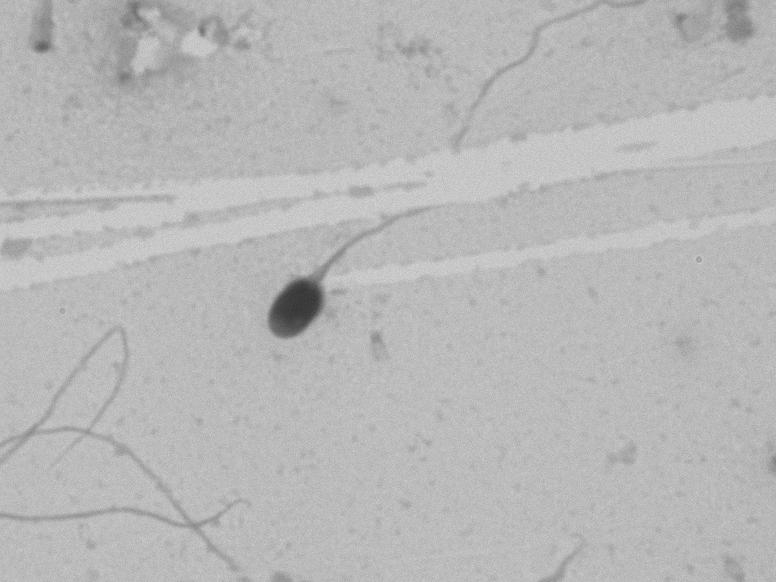Abnormal: (220, 180, 475, 368)
